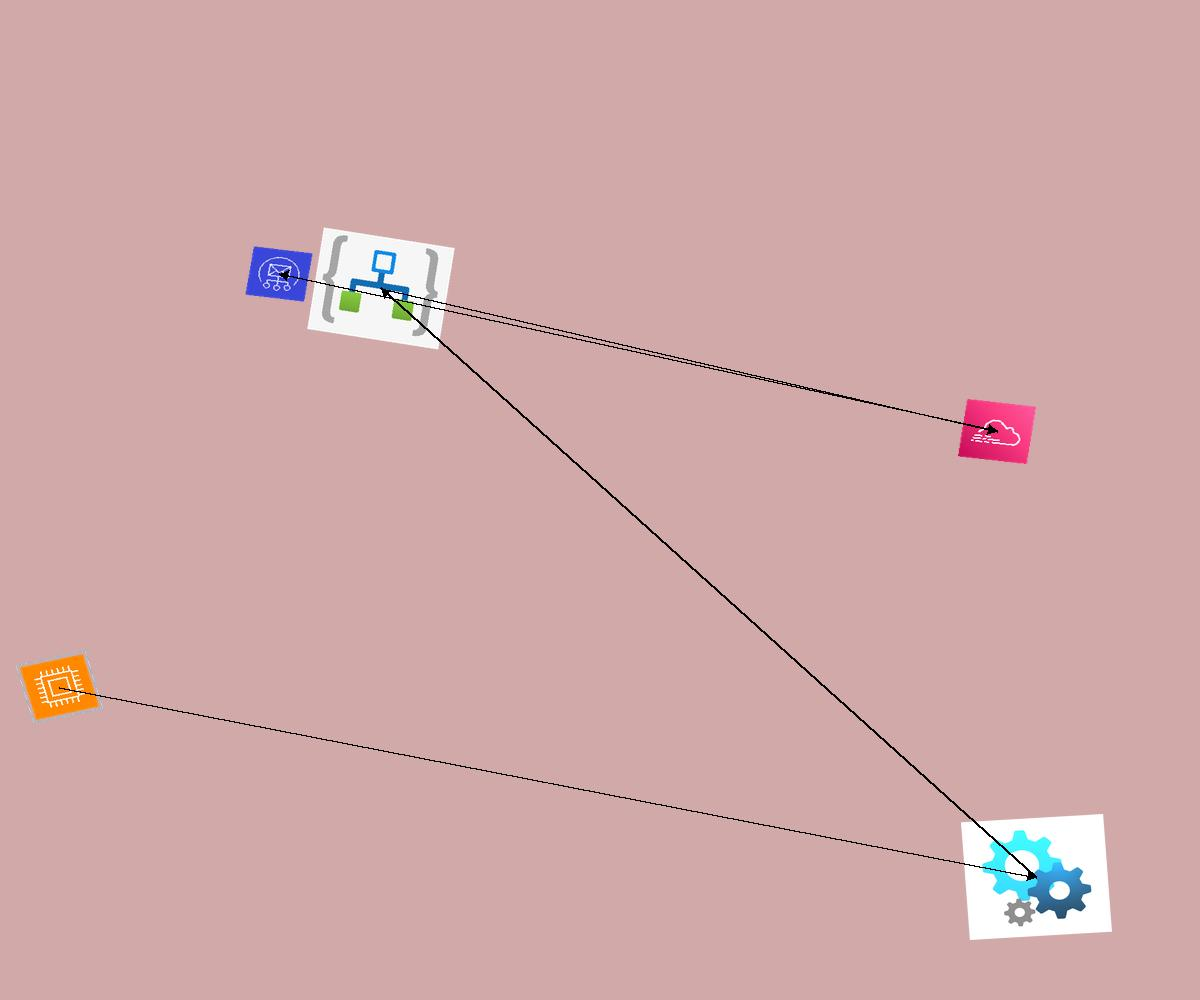AWS-Category_Compute: (15, 650, 104, 724)
AWS-CloudTrail: (958, 399, 1036, 464)
AWS-Simple-Email-Service: (245, 246, 313, 302)
Azure_api: (961, 814, 1112, 940)
Azure_integration-204-Logic-Apps: (307, 227, 455, 350)
